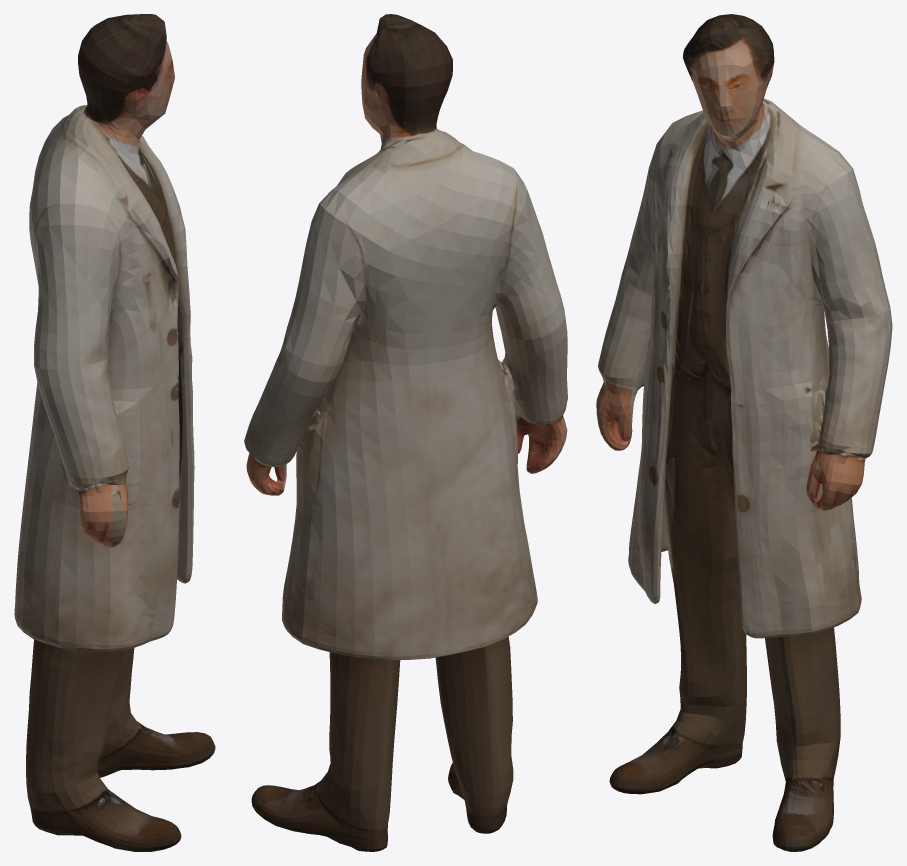
File: dr_fenn_tripo.glb
The picture shows the model from 3 angles, left to right: view 1: azimuth 30°, elevation 25°; view 2: azimuth 150°, elevation 25°; view 3: azimuth 270°, elevation 25°; orthographic projection.
Visible parts, largest first — view 1: tripo_node_4af0dd21-1cbb-4a44-88f6-b3457d27bc8b; view 2: tripo_node_4af0dd21-1cbb-4a44-88f6-b3457d27bc8b; view 3: tripo_node_4af0dd21-1cbb-4a44-88f6-b3457d27bc8b.
Boxes of the visible parts, x1,y1,x2,y2 form: tripo_node_4af0dd21-1cbb-4a44-88f6-b3457d27bc8b: (14, 14, 215, 851); tripo_node_4af0dd21-1cbb-4a44-88f6-b3457d27bc8b: (244, 14, 567, 851); tripo_node_4af0dd21-1cbb-4a44-88f6-b3457d27bc8b: (596, 14, 892, 851).
Size of the model in its own units: 0.3191 by 0.9993 by 0.3417.
Materials: 1 (1 with a texture image).
